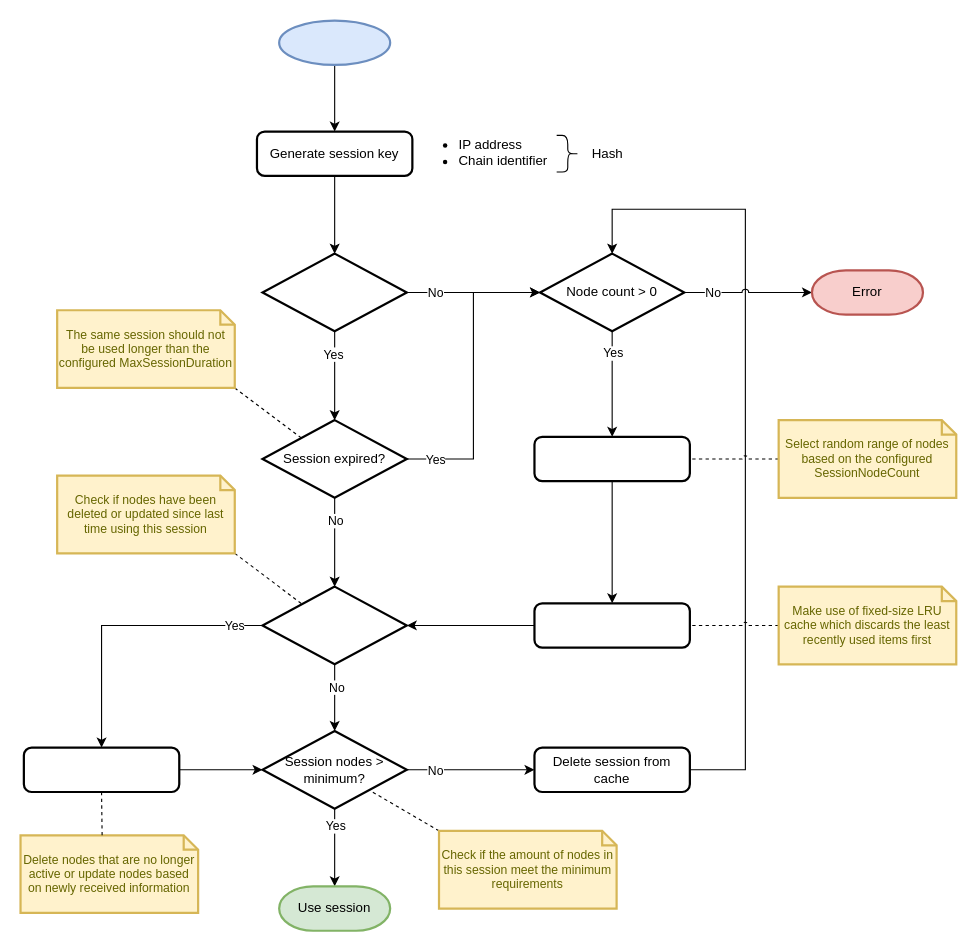
Some shapes in this 976 by 950 pixel diagram are drawn without their labels. Each missing label, with the centre of its shape:
Add session to cache: the point at 611,625
Generate session: the point at 611,458
Get actual nodes: the point at 101,769
Nodes changed?: the point at 334,625
Relay request: the point at 334,42
Session in cache?: the point at 334,292
